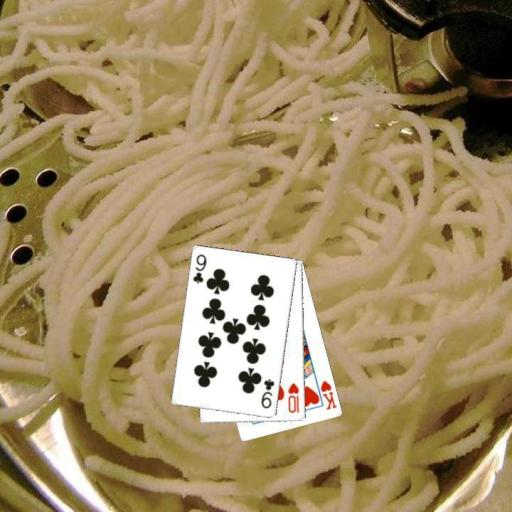card-corner: (318, 378, 338, 411), (258, 376, 276, 410), (190, 251, 208, 285), (285, 380, 301, 414)
